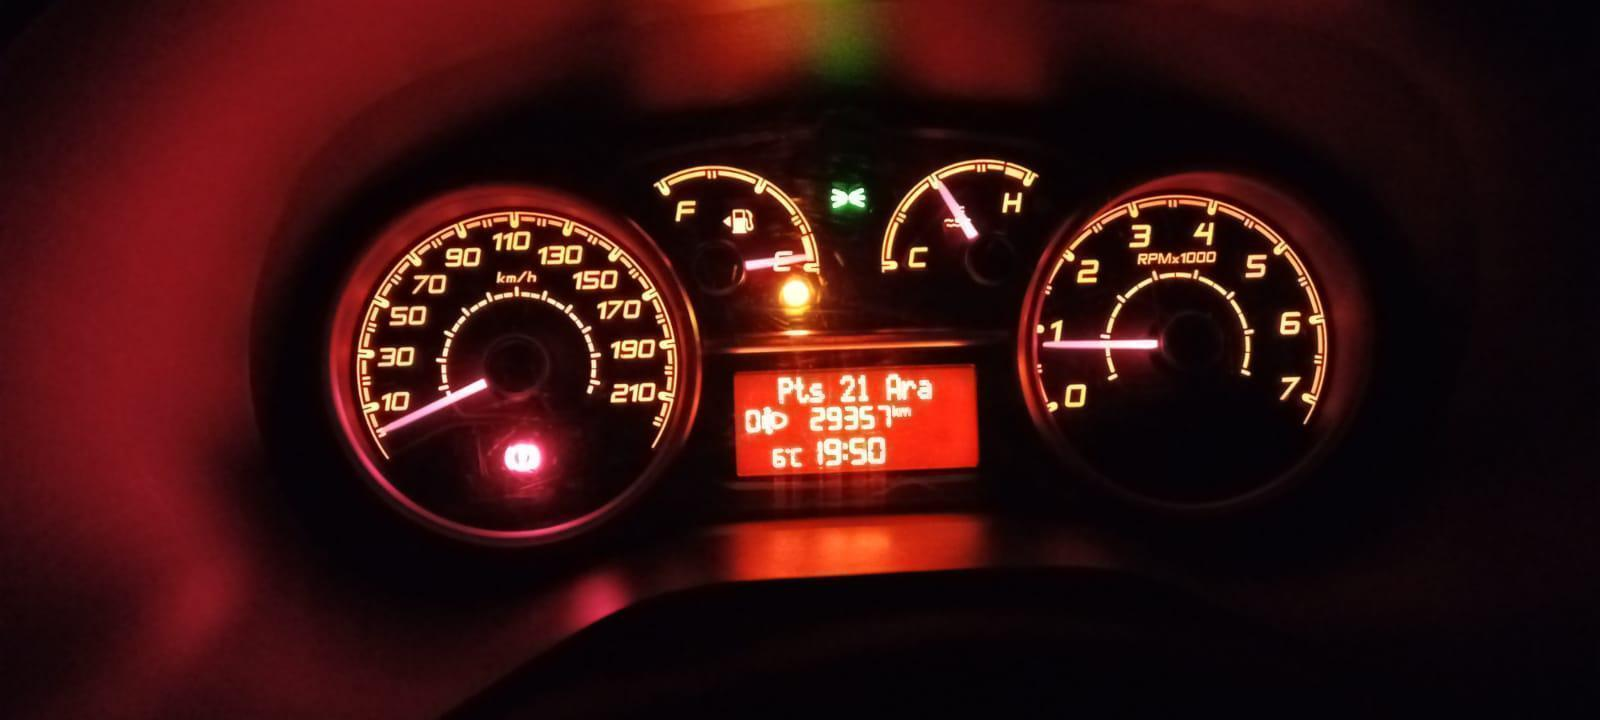0: (868, 435, 886, 466), (745, 407, 760, 435)
1: (857, 374, 871, 402), (815, 438, 822, 468)
2: (839, 373, 856, 403), (809, 406, 826, 432)
3: (844, 404, 859, 431)
5: (849, 436, 867, 468), (859, 404, 874, 429)
6: (770, 446, 785, 470)
7: (877, 403, 892, 429)
9: (823, 438, 842, 468), (826, 405, 843, 431)
X: (884, 372, 901, 401), (776, 375, 792, 405), (793, 375, 808, 404), (809, 380, 826, 403), (901, 377, 916, 399), (918, 378, 933, 401), (791, 445, 803, 468), (842, 439, 849, 462), (899, 406, 911, 417), (892, 404, 899, 417)
odometer: (730, 361, 984, 478)
